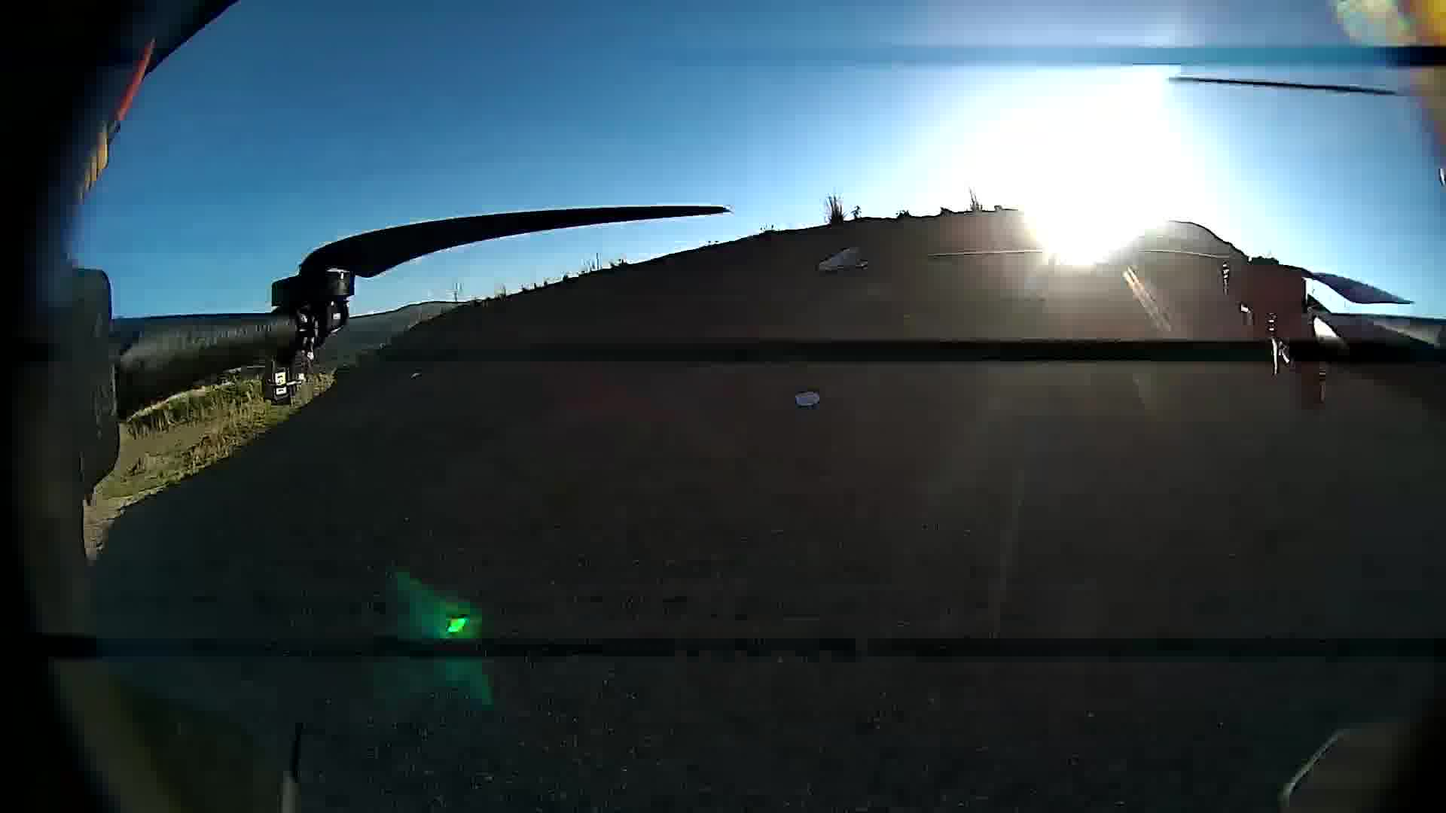Target: (792, 391, 821, 407)
